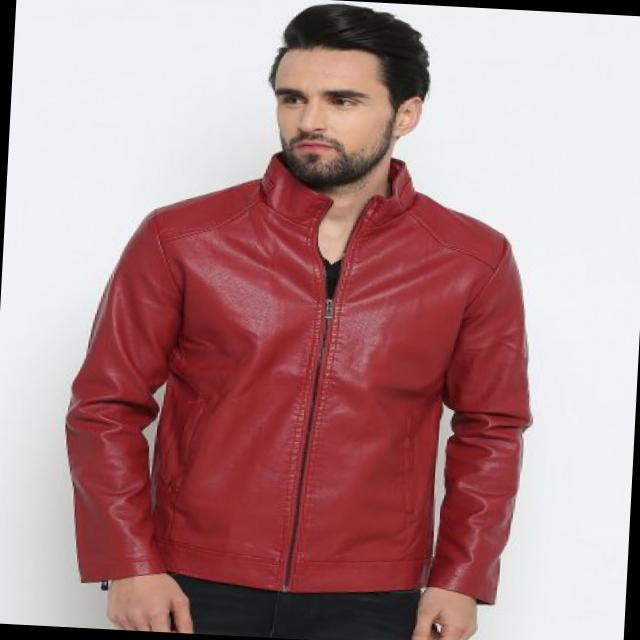Jacket: (52, 150, 588, 622)
